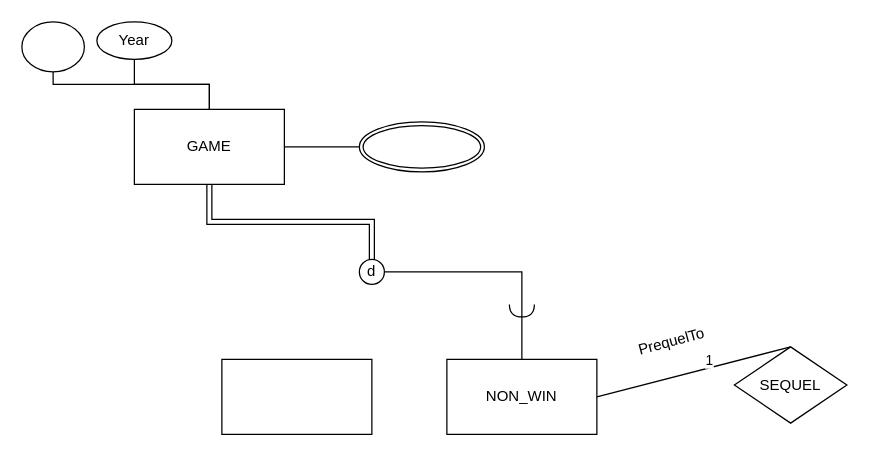
Some shapes in this 869 by 456 pixel diagram are drawn without their labels. The shapes that lost their labels are listed below. From the top down, each one's centre as x and y in pixels, then its label:
At pixel 52 46: "Name".
At pixel 421 146: "Console".
At pixel 296 396: "WINNABLE".
